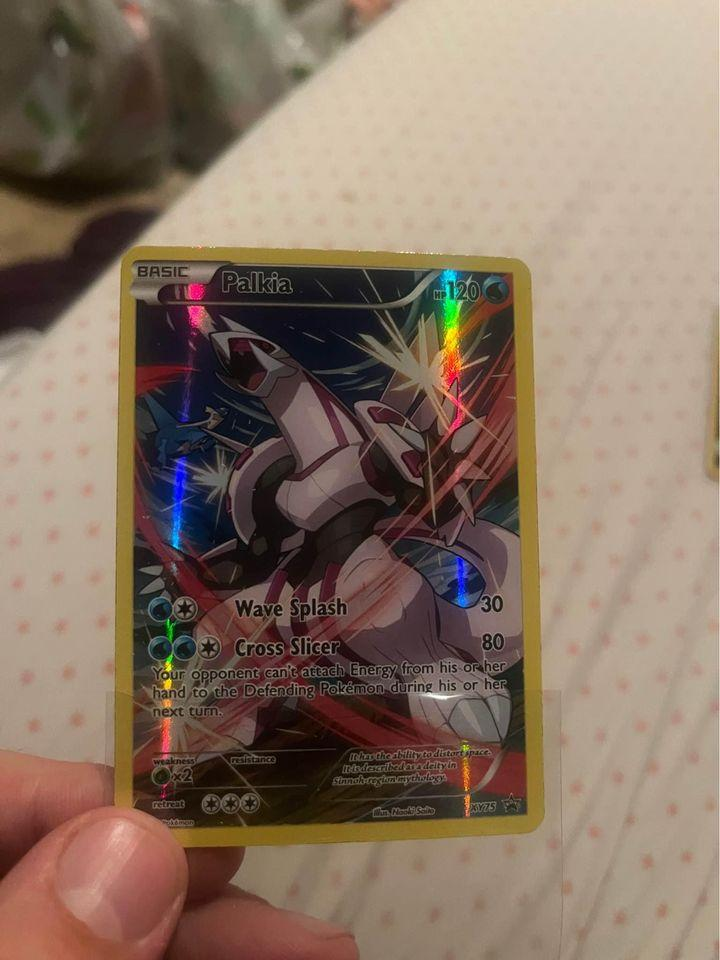card: (110, 244, 549, 849)
